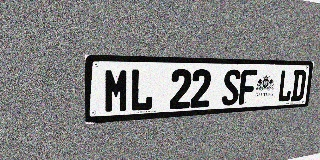2: (170, 69, 192, 109), (190, 69, 212, 108)
D: (290, 70, 307, 101)
F: (238, 70, 257, 105)
L: (130, 69, 154, 112), (277, 70, 294, 102)
M: (104, 68, 130, 114)
S: (221, 69, 241, 106)
